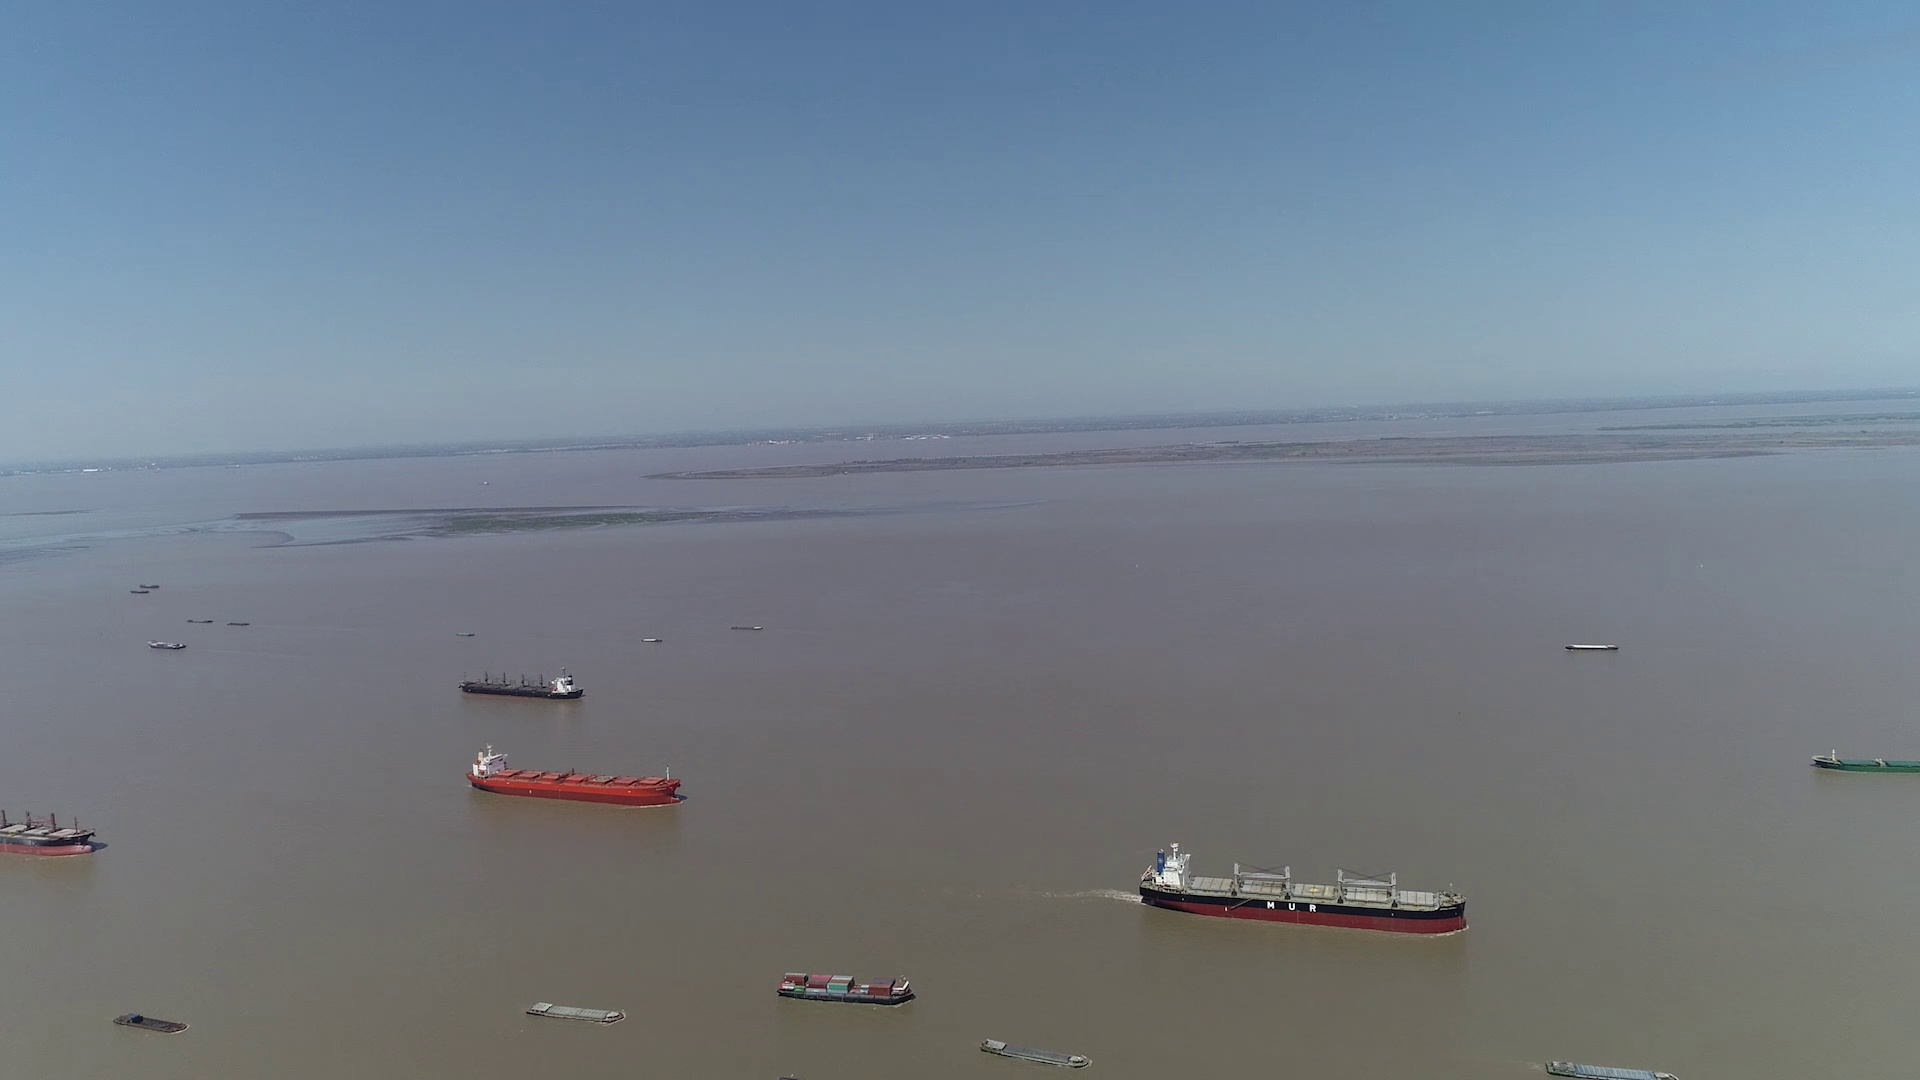ship: (1141, 843, 1469, 934), (465, 742, 680, 806), (1, 796, 104, 858), (781, 972, 914, 1006), (460, 669, 583, 699), (980, 1038, 1095, 1069), (1547, 1059, 1672, 1080), (525, 1000, 626, 1025), (1811, 752, 1920, 773), (116, 1011, 189, 1033), (1567, 642, 1615, 651), (150, 640, 189, 649)
